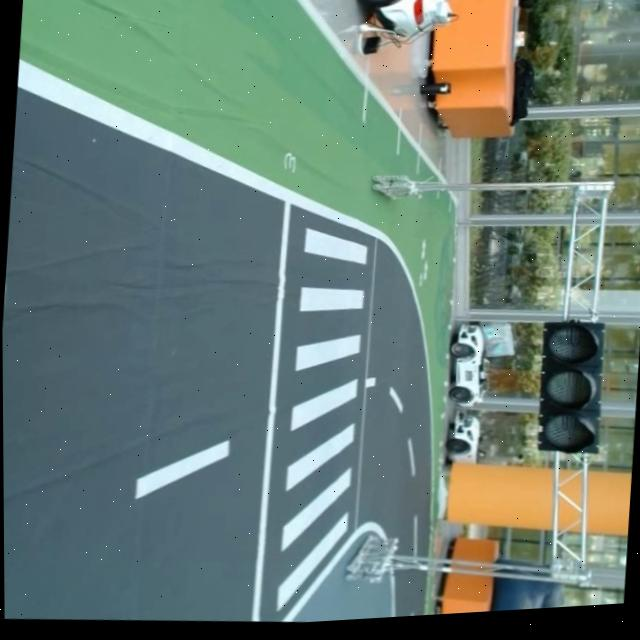traffic-light: (531, 312, 613, 464)
